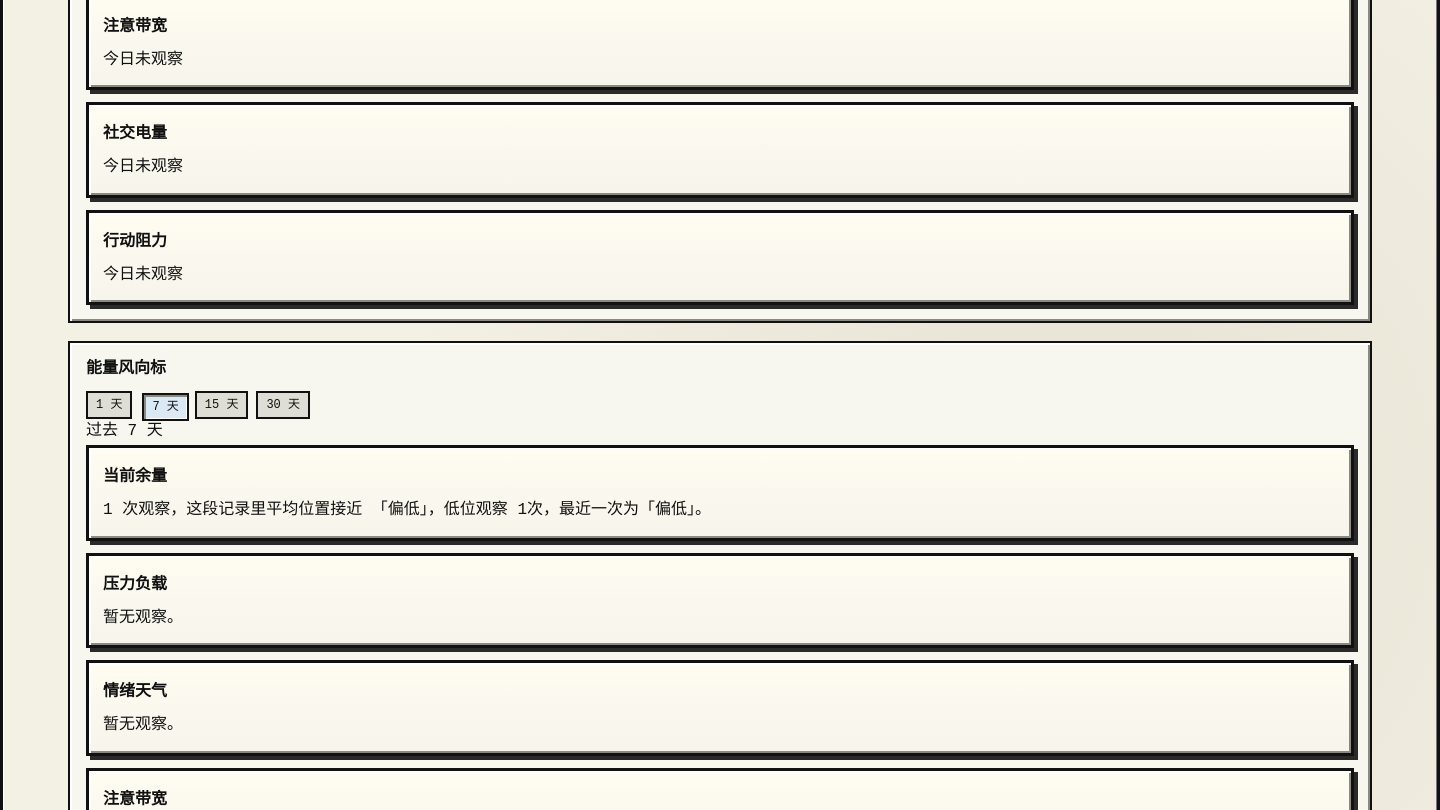
EnergyManagementPanel › switches the energy compass range and hides internal scores
(page scrolled)
Click the button "30 天": (283, 405) [256,391,310,419]
(page scrolled)
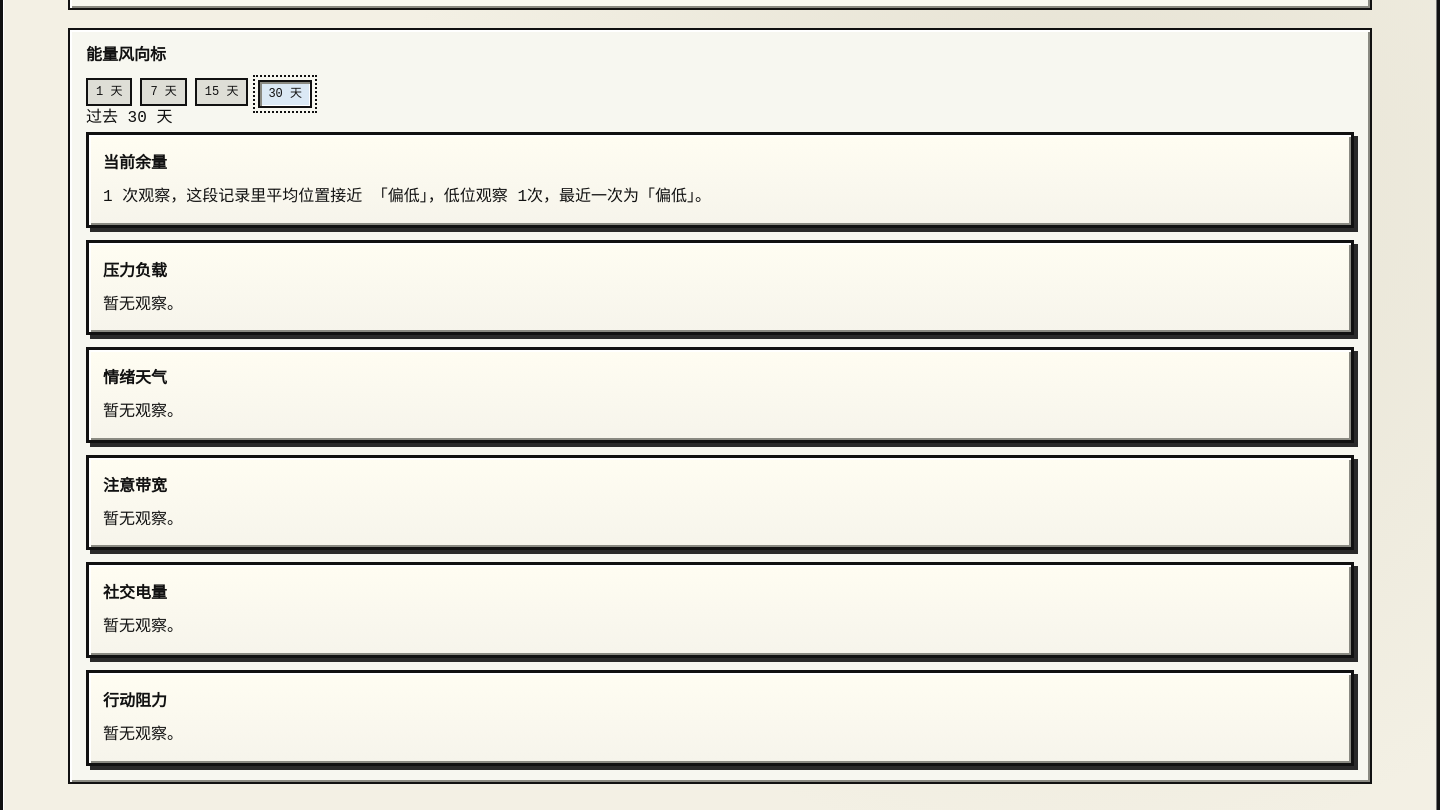
Expected: the element "能量风向标" shows "当前余量", [103,155,167,173]
Expected: the element "能量风向标" shows "过去 30 天"
